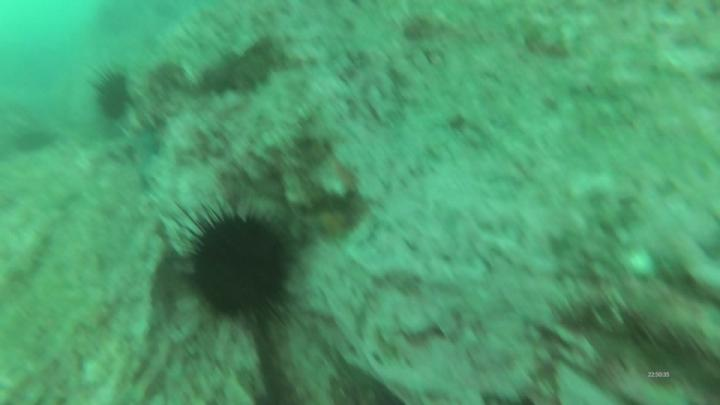echinus: (162, 197, 300, 335), (87, 65, 131, 127)
